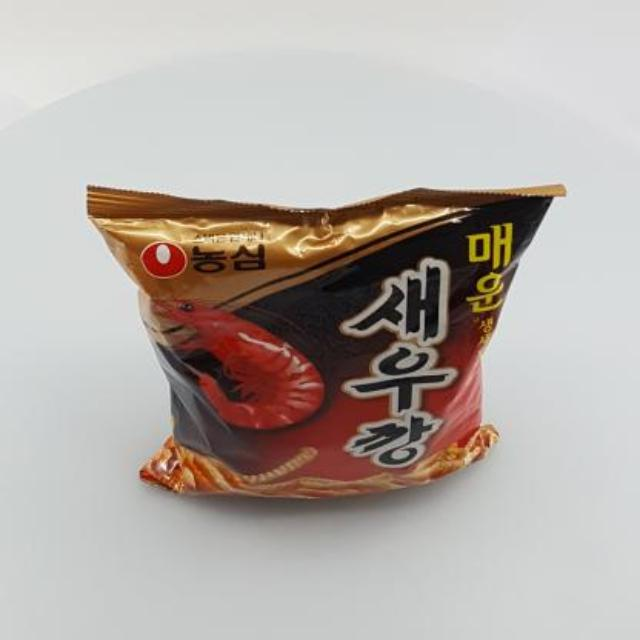snack_bag: (76, 171, 580, 515)
